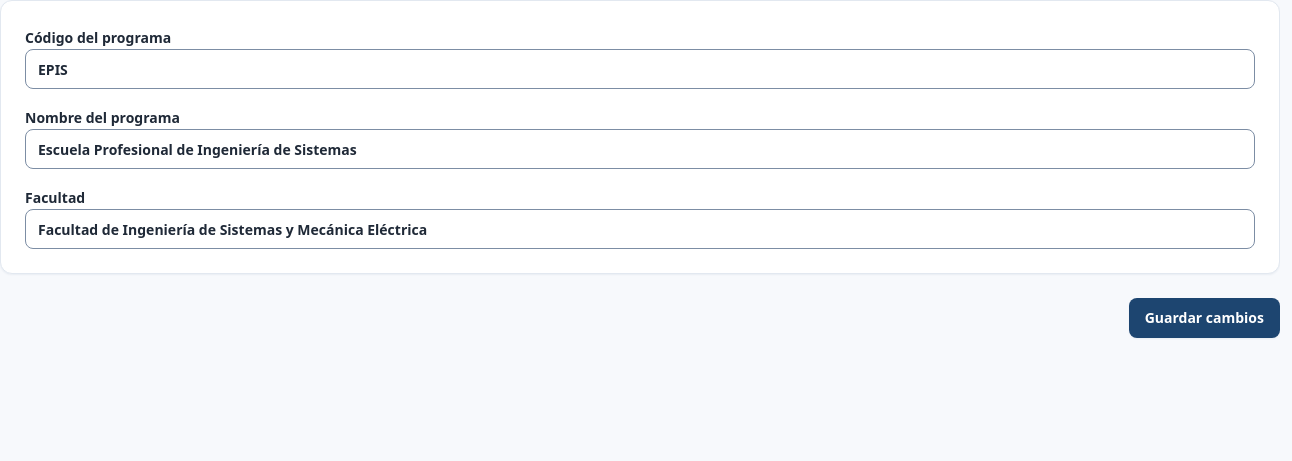
Test case: ProgramForm component (HU-009, T-009-17, CA1, CA2) › does not send request and shows notice when there are no modified fields (D6)
The width and height of the screenshot is (1292, 461).
Step 1. Click the button "Guardar cambios" → (1204, 318), box 1129,298 -> 1280,338
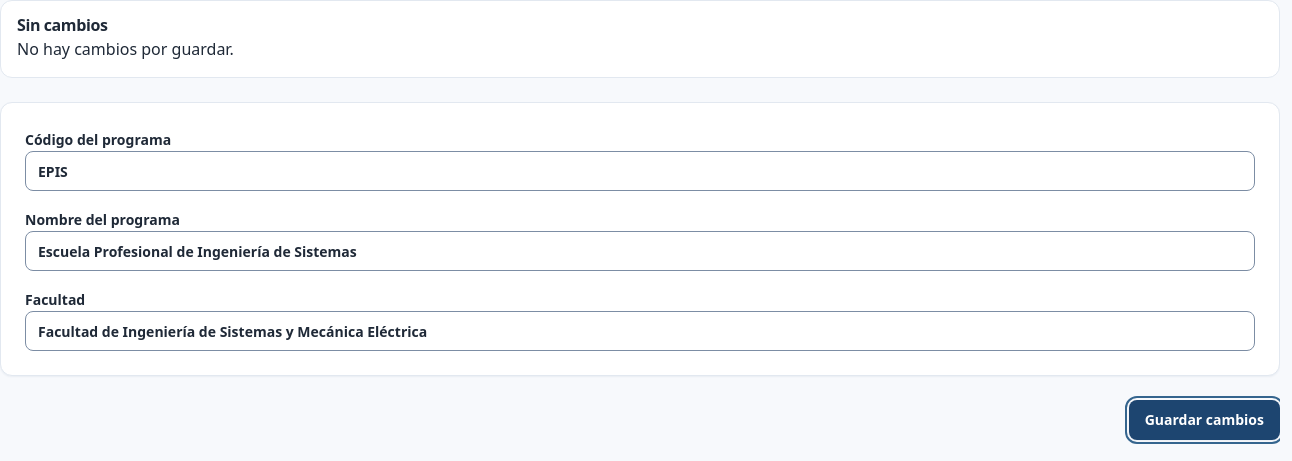
Expected: the text "No hay cambios por guardar." is shown, 17,38 -> 234,60
